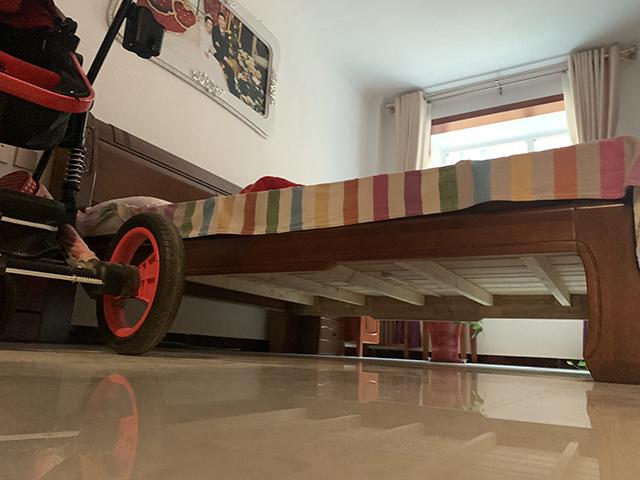bed: (84, 111, 640, 385)
cabinet: (296, 315, 348, 356)
